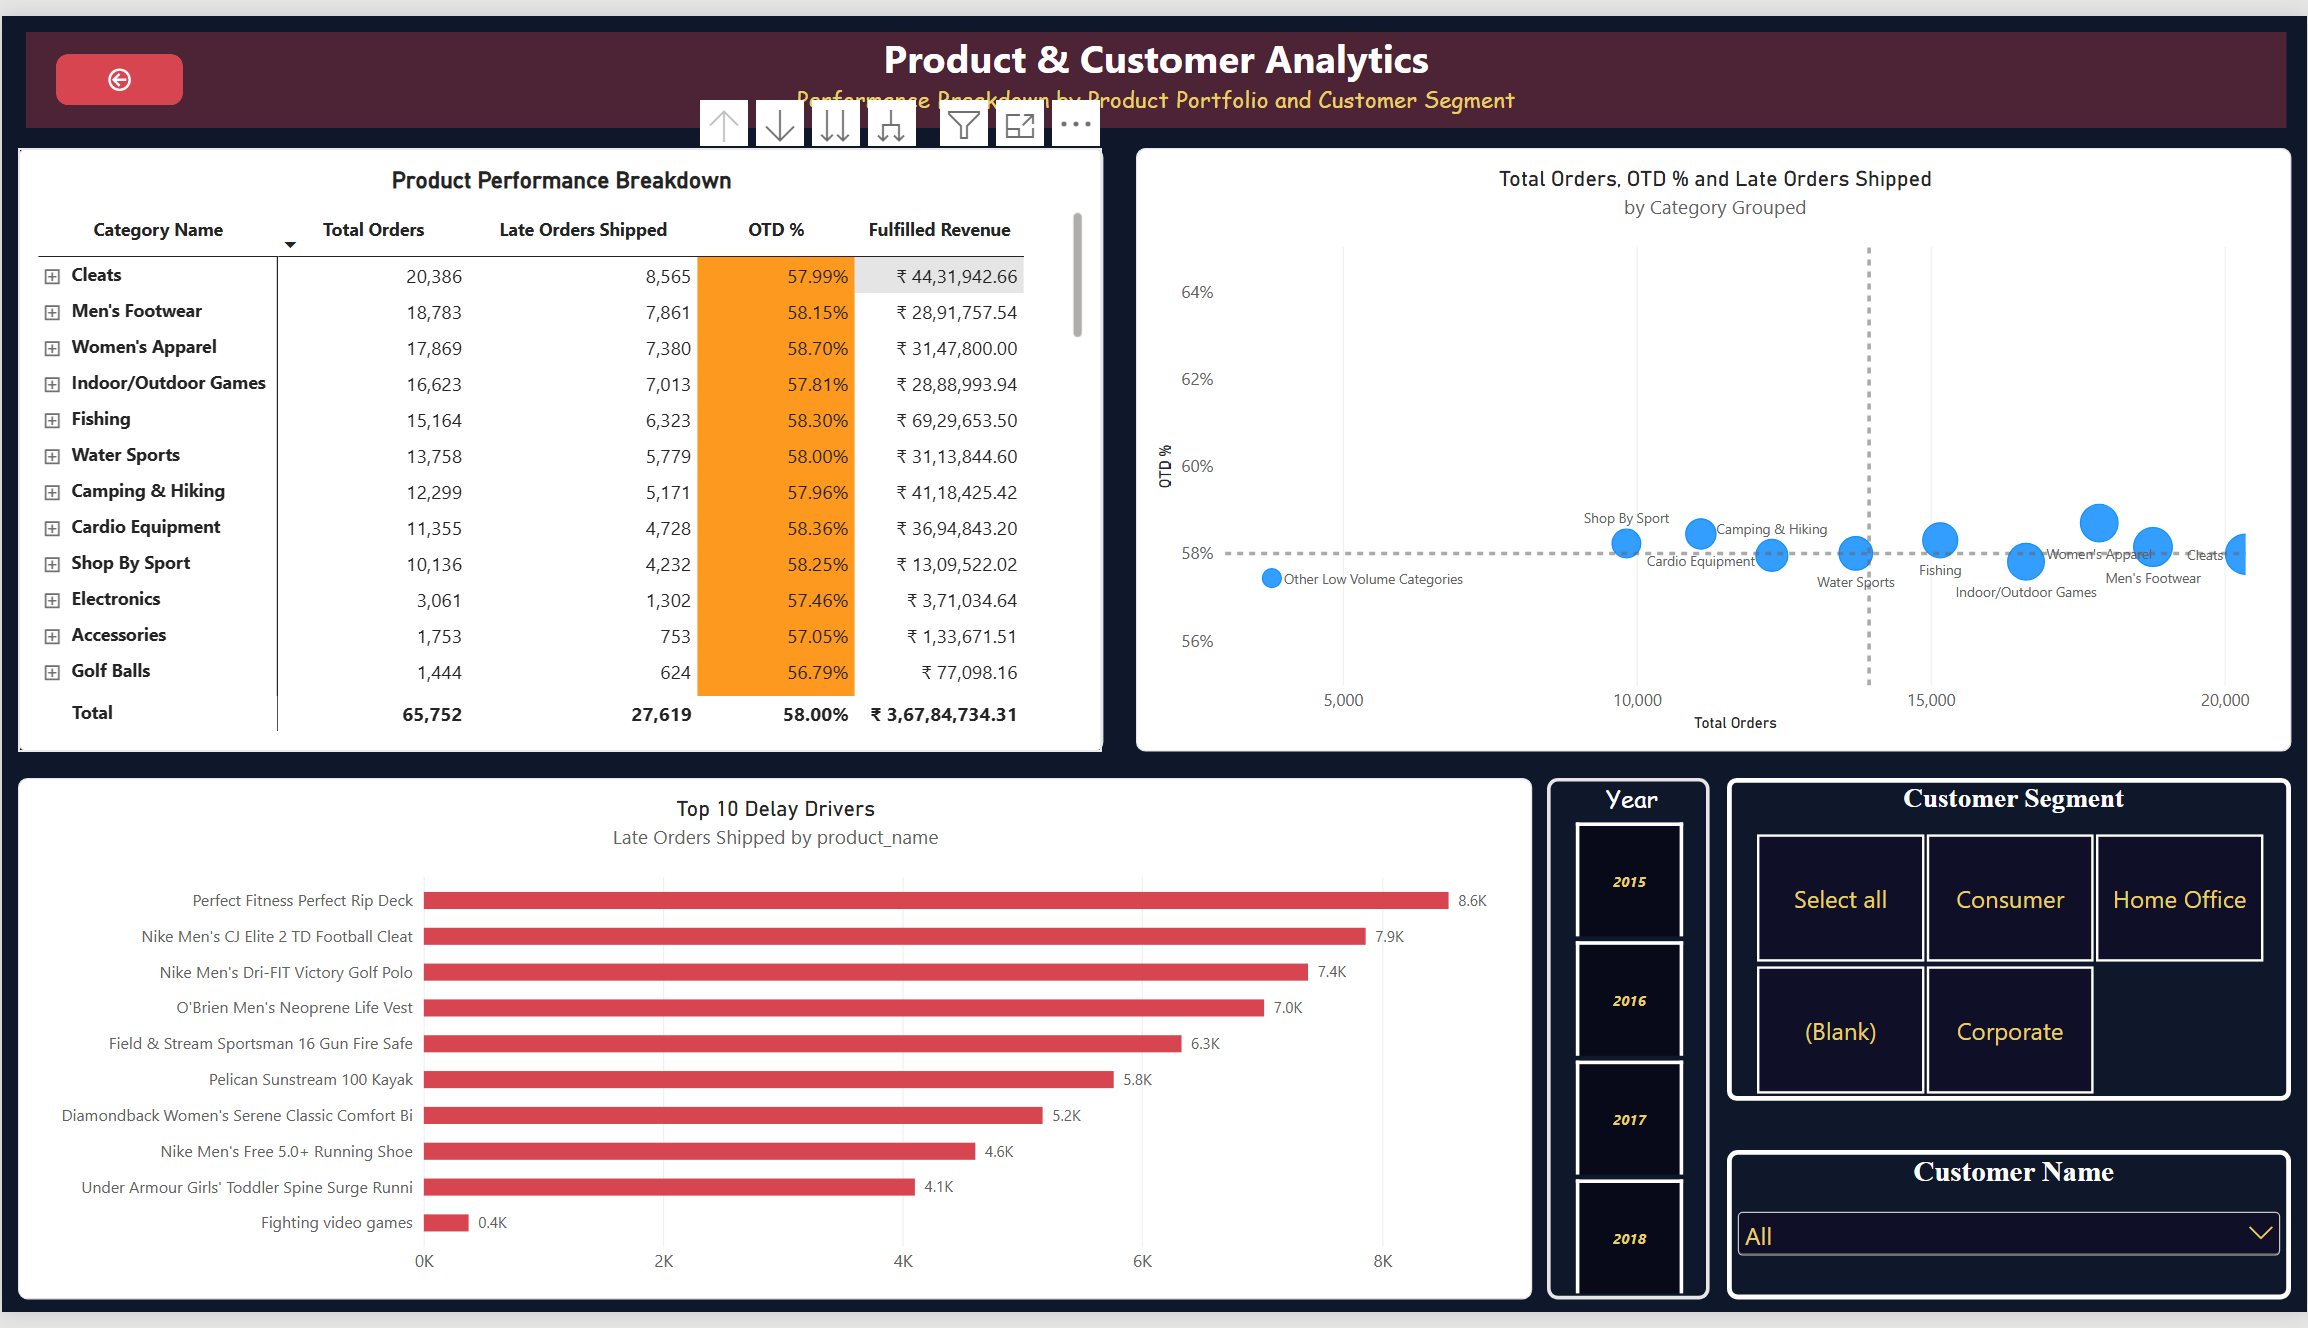

Layout of this report page (visuals, bound fields, positions):
{"tool":"powerbi","page":{"name":"Product & Customer Analytics","canvas":[1920,1080],"ordinal":3},"visuals":[{"type":"textbox","box":[20.4,13,1882.9,79.8],"z":0},{"type":"pivotTable","title":"Product Performance Breakdown","fields":{"Rows":["dim_products.category_name","dim_products.product_name"],"Values":["_measure.Total Orders","_measure.Late Orders Shipped","_measure.OTD %","_measure.Fulfilled Revenue"]},"box":[13,109.6,904.3,503.2],"z":1000},{"type":"clusteredBarChart","title":"Top 10 Delay Drivers","fields":{"Category":["dim_products.product_name"],"Y":["_measure.Late Orders Shipped"]},"box":[13,635,1260.8,434.5],"z":2000},{"type":"scatterChart","fields":{"Category":["dim_products.Category Grouped"],"Size":["_measure.Late Orders Shipped"],"X":["_measure.Total Orders"],"Y":["_measure.OTD %"]},"box":[945.8,109.6,961.9,503.2],"z":3000},{"type":"slicer","title":"Customer Segment","fields":{"Values":["dim_customers.customer_segment"]},"box":[1437.2,635,469.8,269.2],"z":4000},{"type":"slicer","title":"Customer Name","fields":{"Values":["dim_customers.customer_name"]},"box":[1437.2,945.1,469.8,124.4],"z":5000},{"type":"actionButton","box":[44.6,31.6,105.8,42.7],"z":6000},{"type":"slicer","title":"Year","fields":{"Values":["dim_date.Year"]},"box":[1286.8,635,135.6,434.5],"z":7000}]}

Visuals, with their boxes on the page's 1920x1080 design canvas (x1, y1, x2, y2). These are canvas units, not pixel positions in the 2308x1328 screenshot, which may show the page scaled, cropped or inside an application window:
textbox: <box>20,13,1903,93</box>
"Product Performance Breakdown" pivotTable: <box>13,110,917,613</box>
"Top 10 Delay Drivers" clusteredBarChart: <box>13,635,1274,1070</box>
scatterChart - dim_products.Category Grouped x _measure.Late Orders Shipped: <box>946,110,1908,613</box>
"Customer Segment" slicer: <box>1437,635,1907,904</box>
"Customer Name" slicer: <box>1437,945,1907,1070</box>
actionButton: <box>45,32,150,74</box>
"Year" slicer: <box>1287,635,1422,1070</box>
